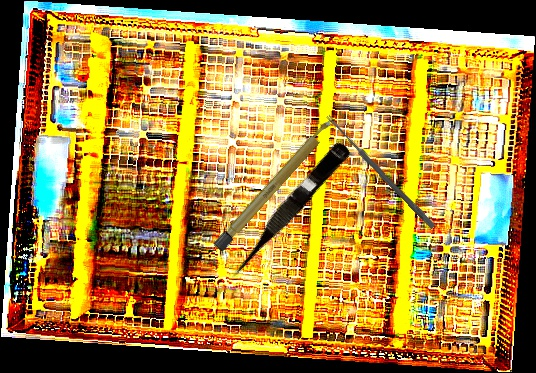Micro Scissor: (220, 136, 353, 285)
Scalpel Handle: (212, 116, 338, 253)
Surgical Spoon: (324, 114, 437, 229)
